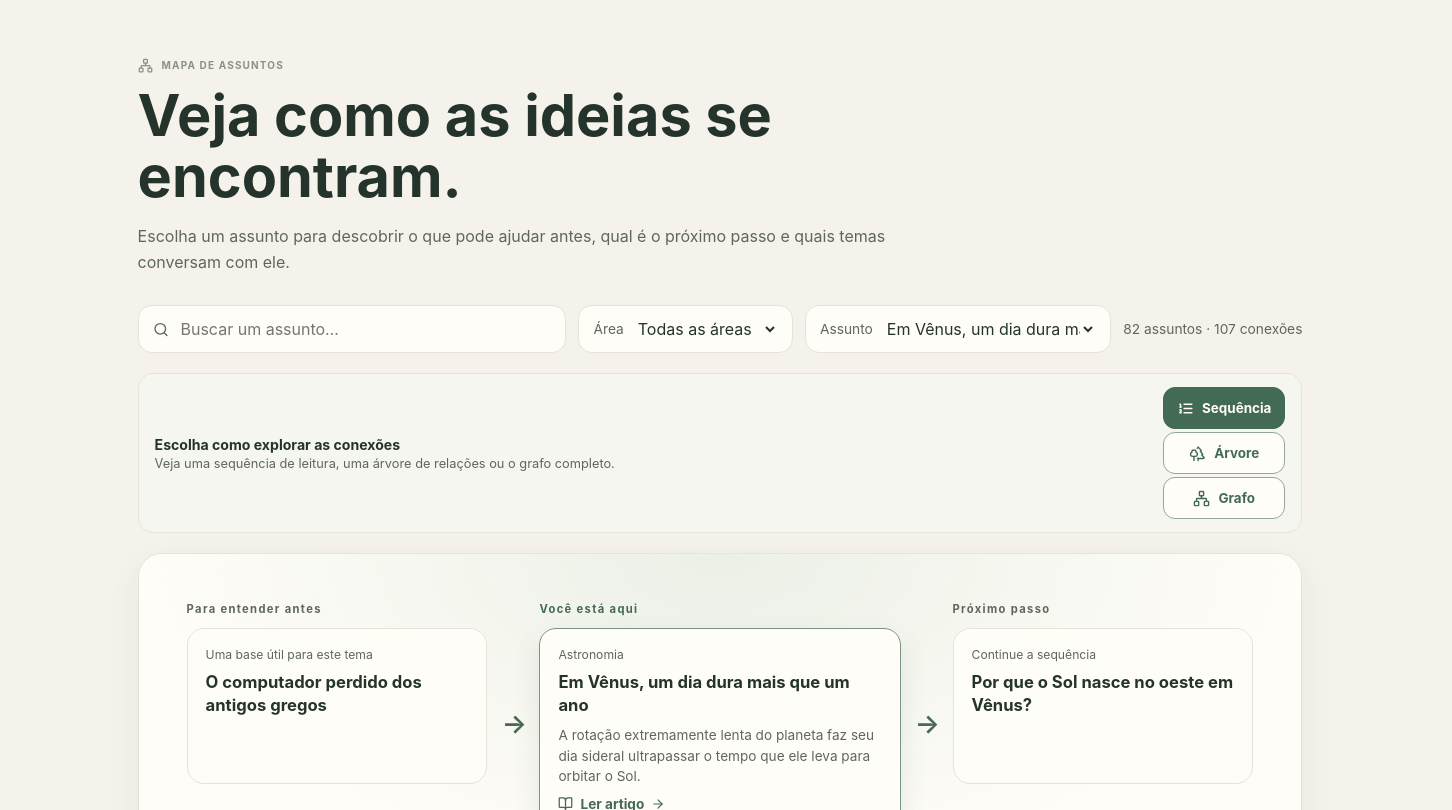
KnowledgeMap › mostra a sequência como opção inicial e alterna entre árvore e grafo
Click the button "Árvore".
click(1224, 454)  # box [1163,432,1285,474]
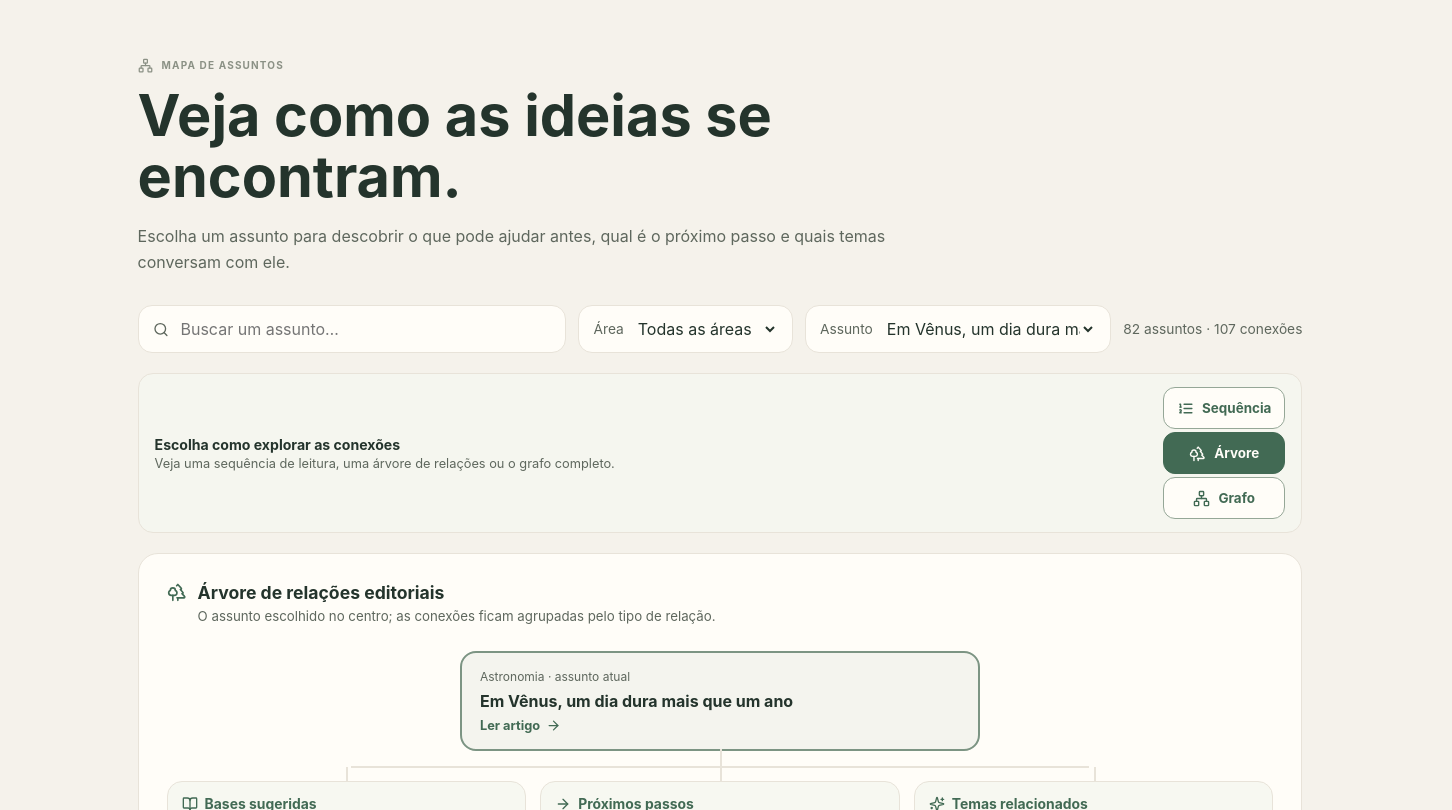
Expected: the button "Árvore" is pressed, [1163,432,1285,474]
Click the button "Grafo".
click(1224, 498)  # box [1163,478,1285,520]
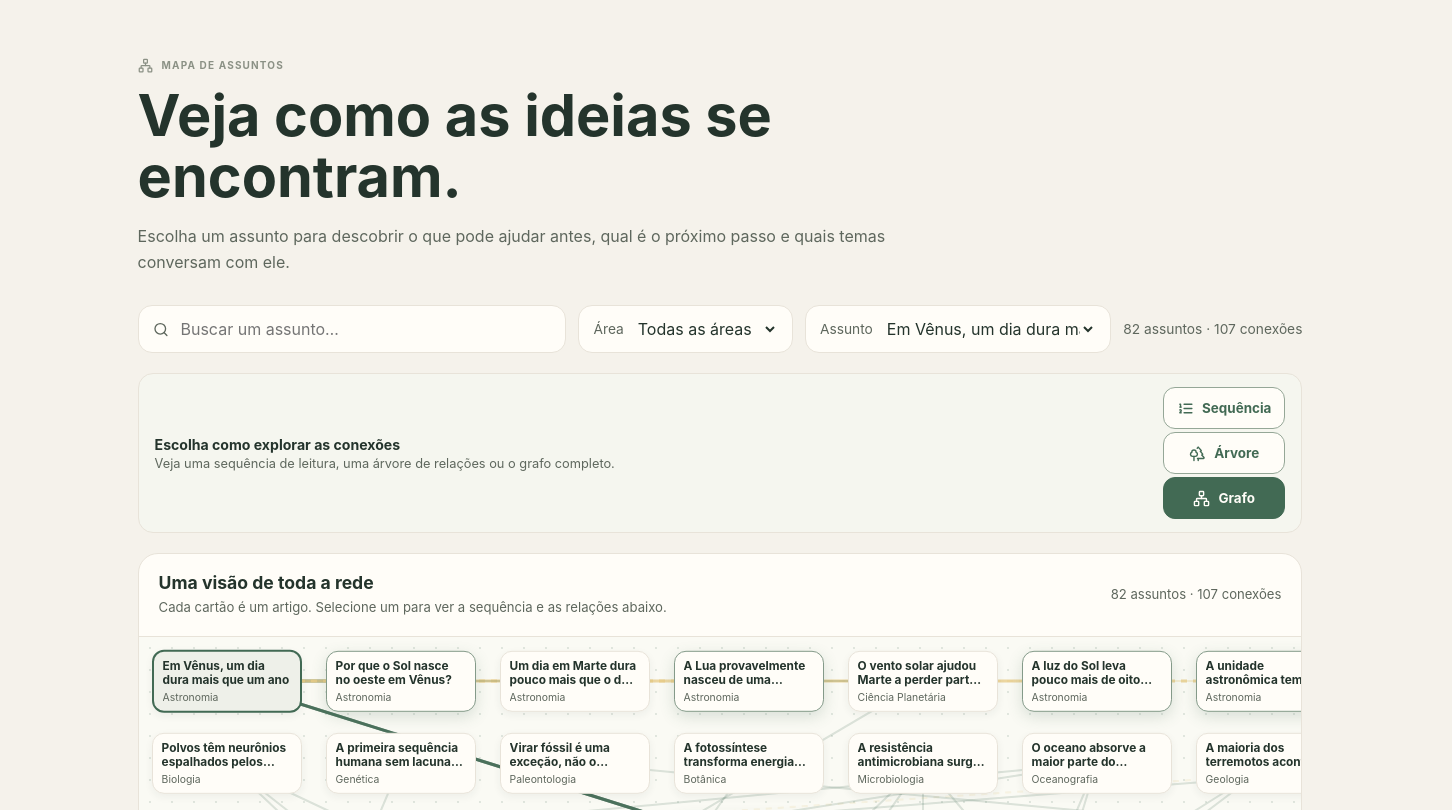
Expected: the heading "Uma visão de toda a rede" is shown, [159,572,374,594]
Click the button "Por que o Sol nasce no oeste em Vênus? Astronomia".
click(401, 681)  # box [326,651,476,711]
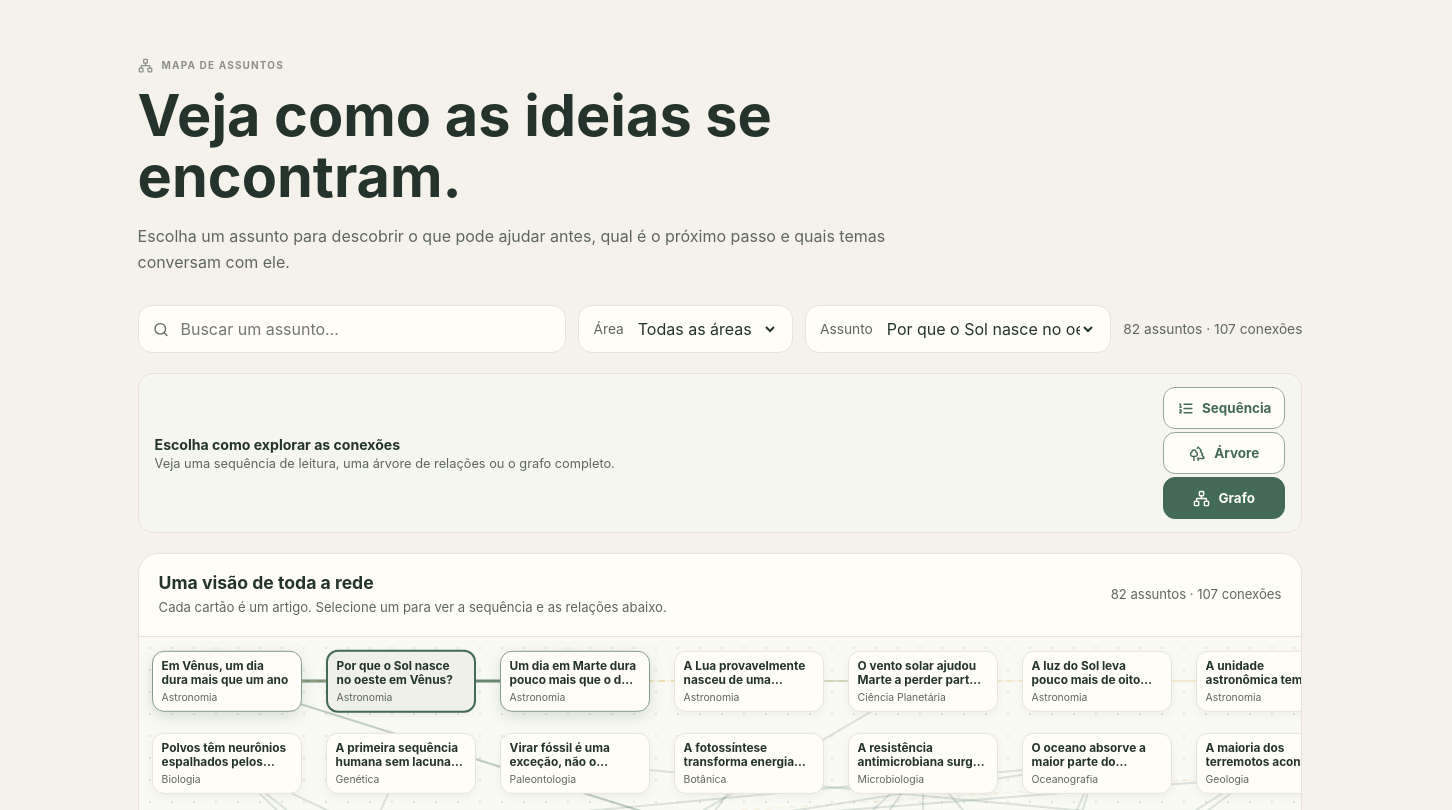
Expected: the dropdown named "Assunto selecionado" shows "Por que o Sol nasce no oeste em Vênus?", [883,318,1096,340]
Click the button "Sequência".
click(1224, 408)  # box [1163,388,1285,430]
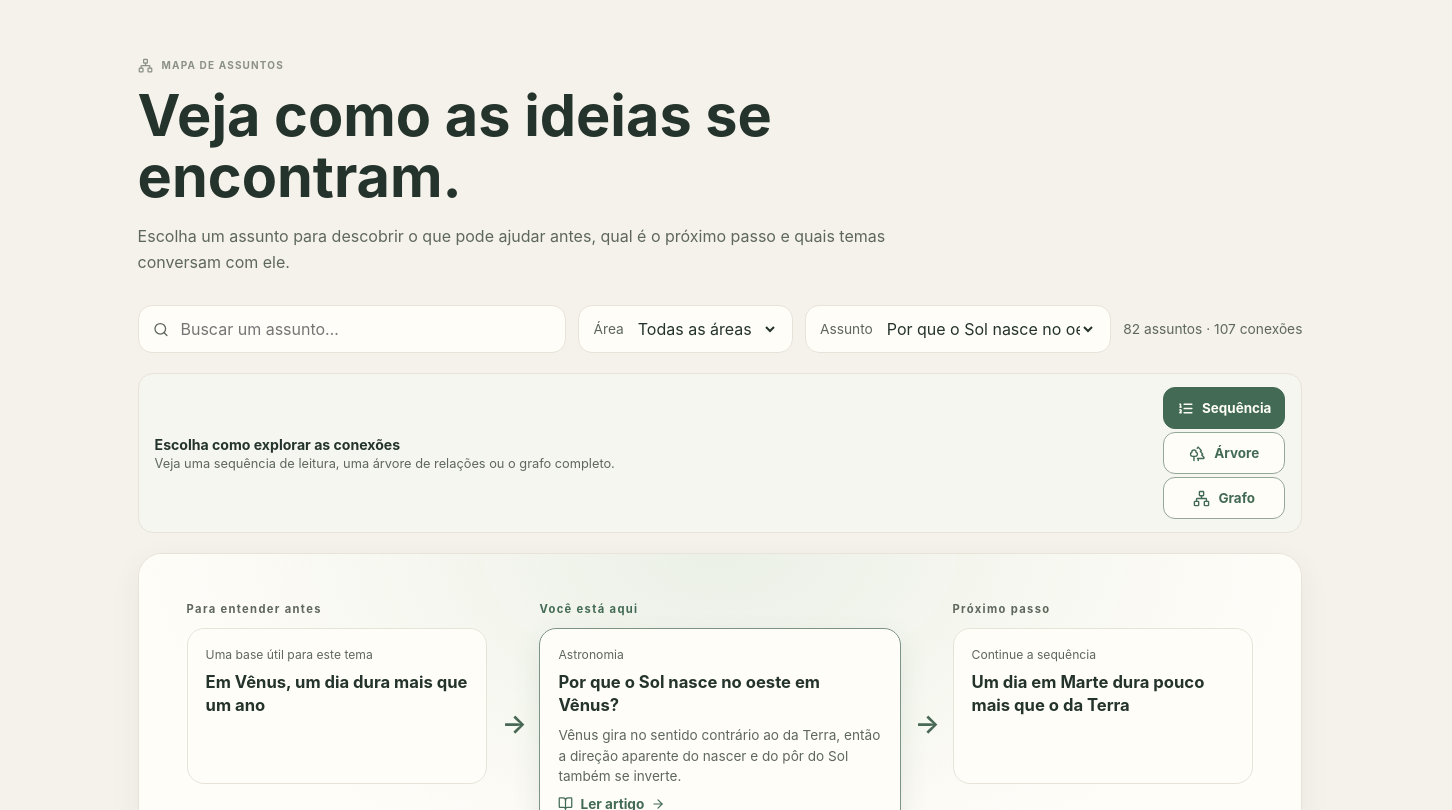
Expected: the heading "Você está aqui" is shown, [540,602,638,616]
